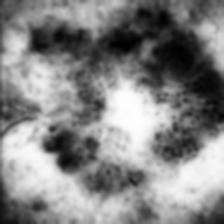Potentially Malignant Skin Tumors: (0, 5, 224, 196)
